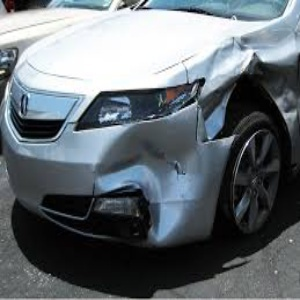bumper: (93, 123, 234, 227)
